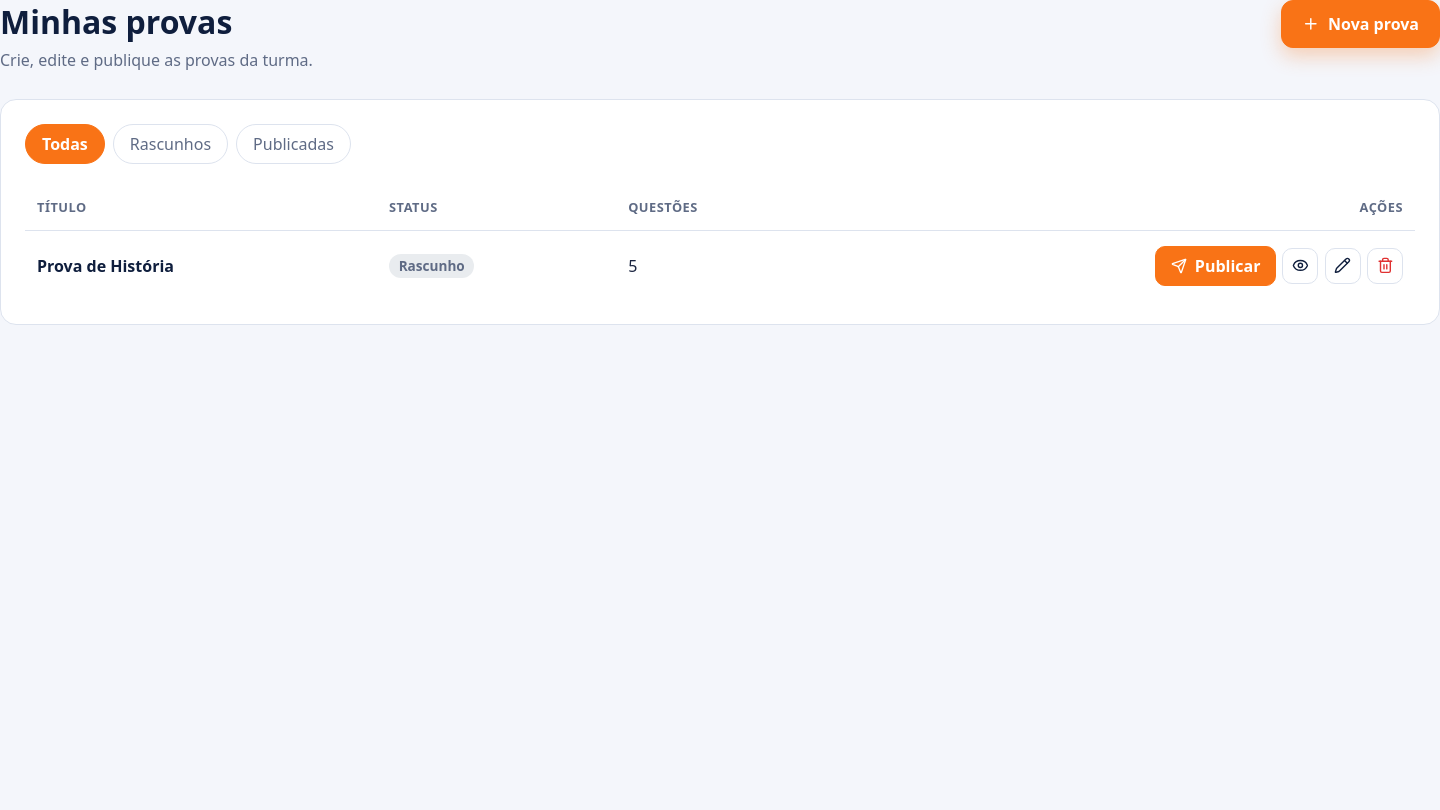
Test: ExamListView › publishes a draft after confirmation and updates the row
Click the button "Publicar" at (1216,266), box [1155,246,1276,286]
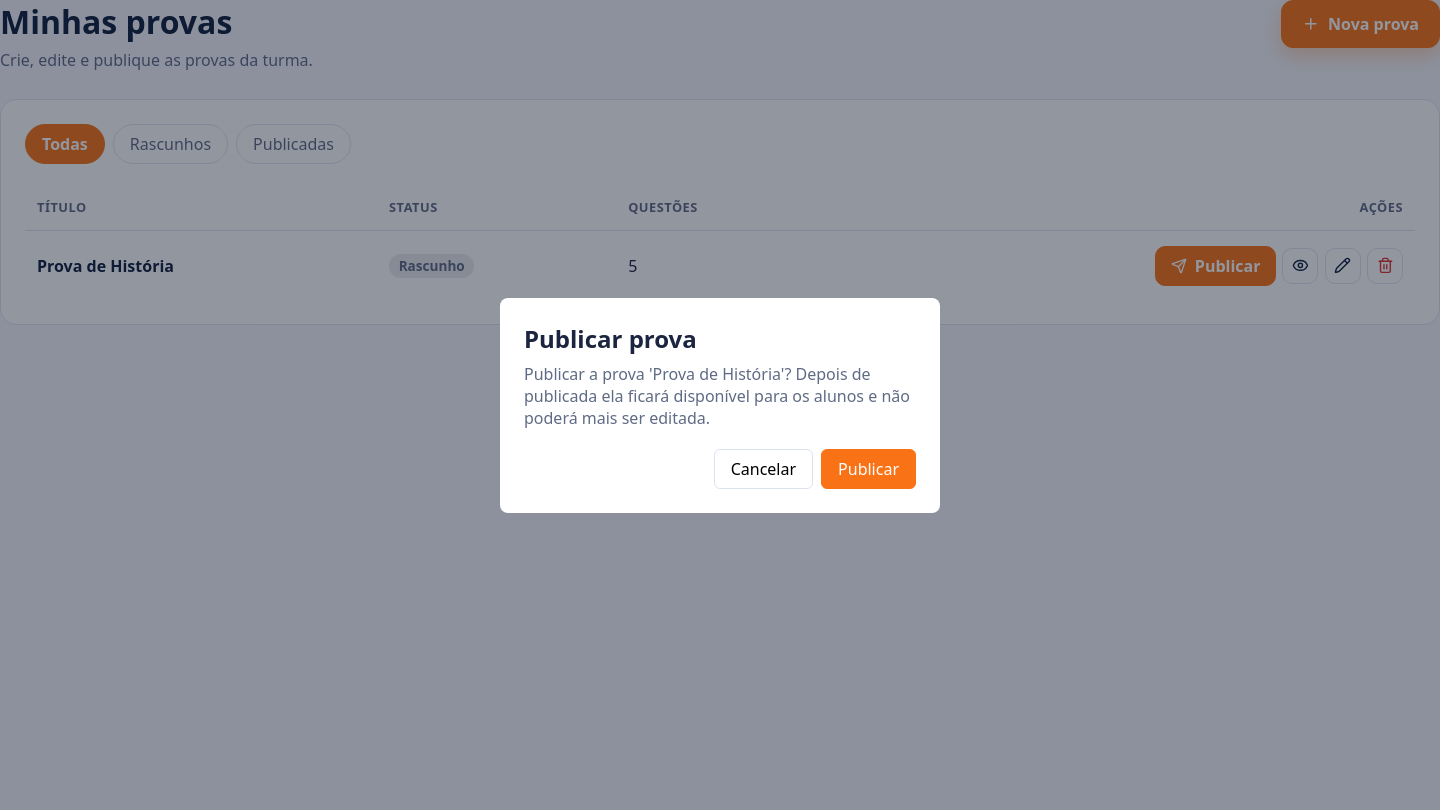
Check: the dialog shows "não poderá mais ser editada", box [524,362,910,428]
Click the button with class "dialog__confirm" at (869,468), box [821,448,916,488]
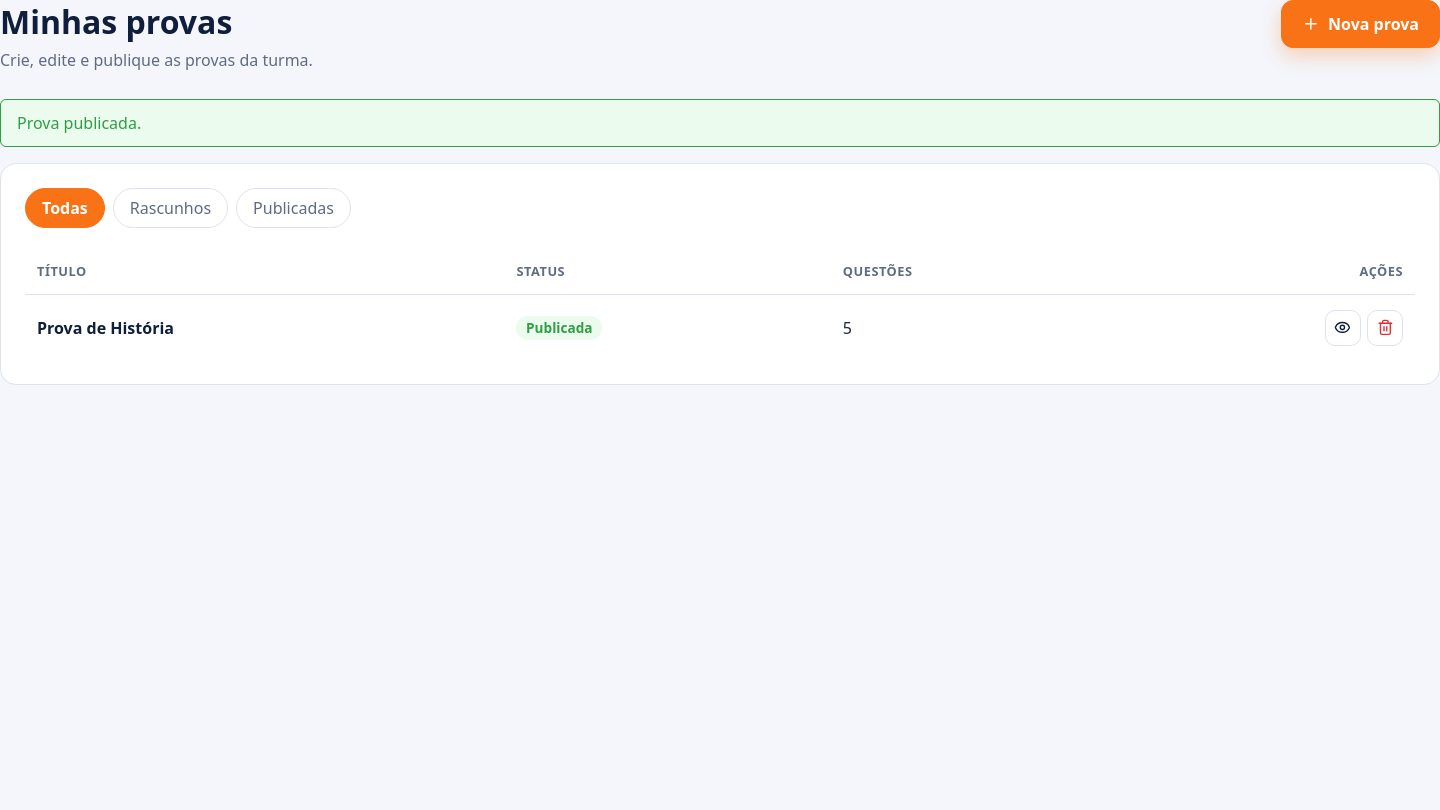
Check: the row "Prova de História Publicada 5" is shown, box [25,295,1415,360]
Check: the text "Prova publicada." is shown, box [0,99,1439,147]
